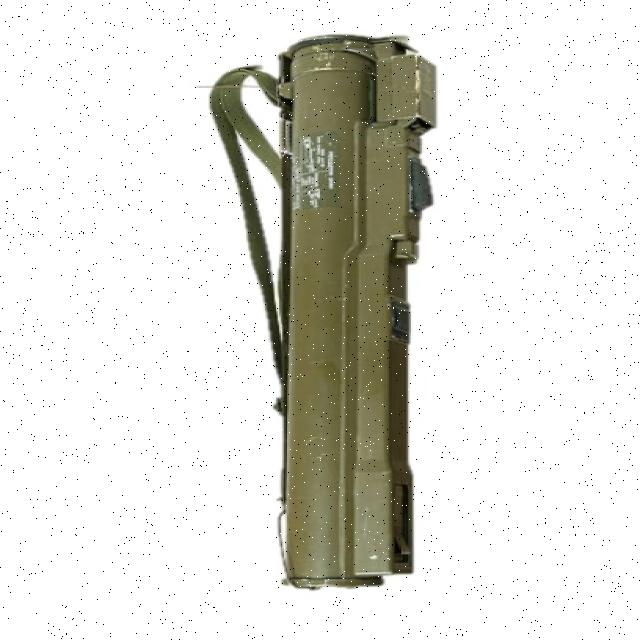bazooka: (195, 34, 460, 596)
